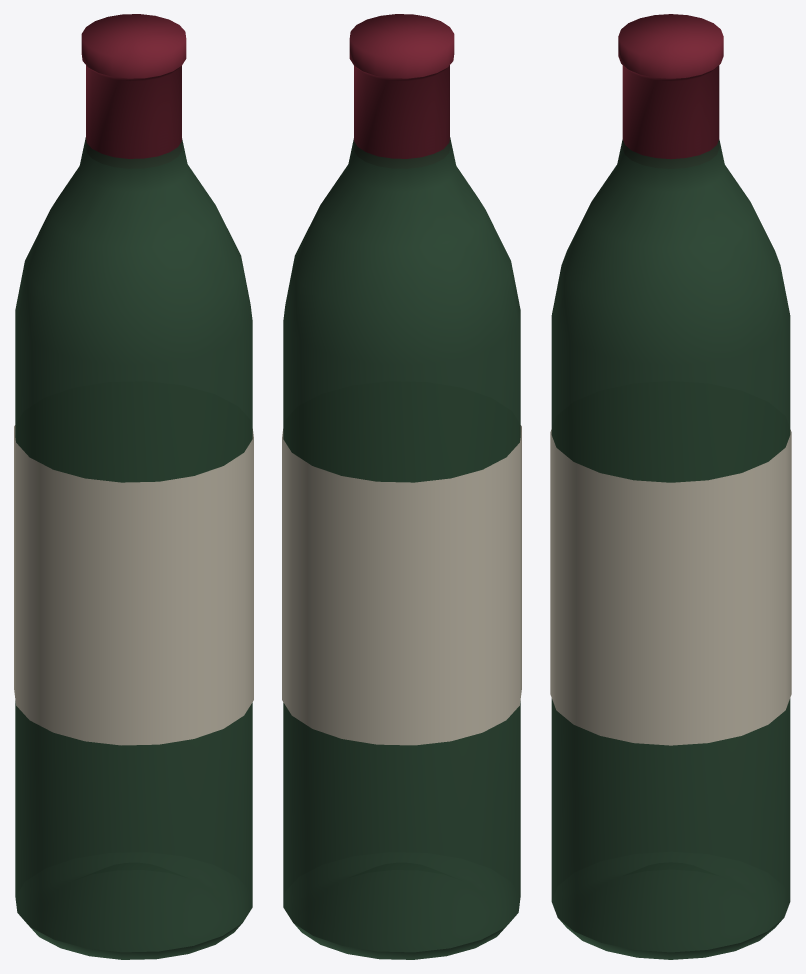
Rendered from ix_wine_bottle.gltf.
3 renders of one model, left to right at view 1: azimuth 30°, elevation 25°; view 2: azimuth 150°, elevation 25°; view 3: azimuth 270°, elevation 25°, orthographic.
Parts seen in each view (by area): view 1: IX_WineBottle_Glass, IX_WineBottle_Label, IX_WineBottle_Capsule; view 2: IX_WineBottle_Glass, IX_WineBottle_Label, IX_WineBottle_Capsule; view 3: IX_WineBottle_Glass, IX_WineBottle_Label, IX_WineBottle_Capsule.
Boxes of the visible parts, x1=… form: IX_WineBottle_Glass: x1=15, y1=137, x2=252, y2=959; IX_WineBottle_Label: x1=14, y1=425, x2=253, y2=745; IX_WineBottle_Capsule: x1=81, y1=14, x2=186, y2=158; IX_WineBottle_Glass: x1=283, y1=137, x2=520, y2=959; IX_WineBottle_Label: x1=282, y1=425, x2=521, y2=745; IX_WineBottle_Capsule: x1=349, y1=14, x2=454, y2=158; IX_WineBottle_Glass: x1=551, y1=139, x2=790, y2=959; IX_WineBottle_Label: x1=550, y1=429, x2=791, y2=745; IX_WineBottle_Capsule: x1=618, y1=14, x2=723, y2=159.
Bounding box in the file's own units: 0.0748 × 0.3005 × 0.0748.
